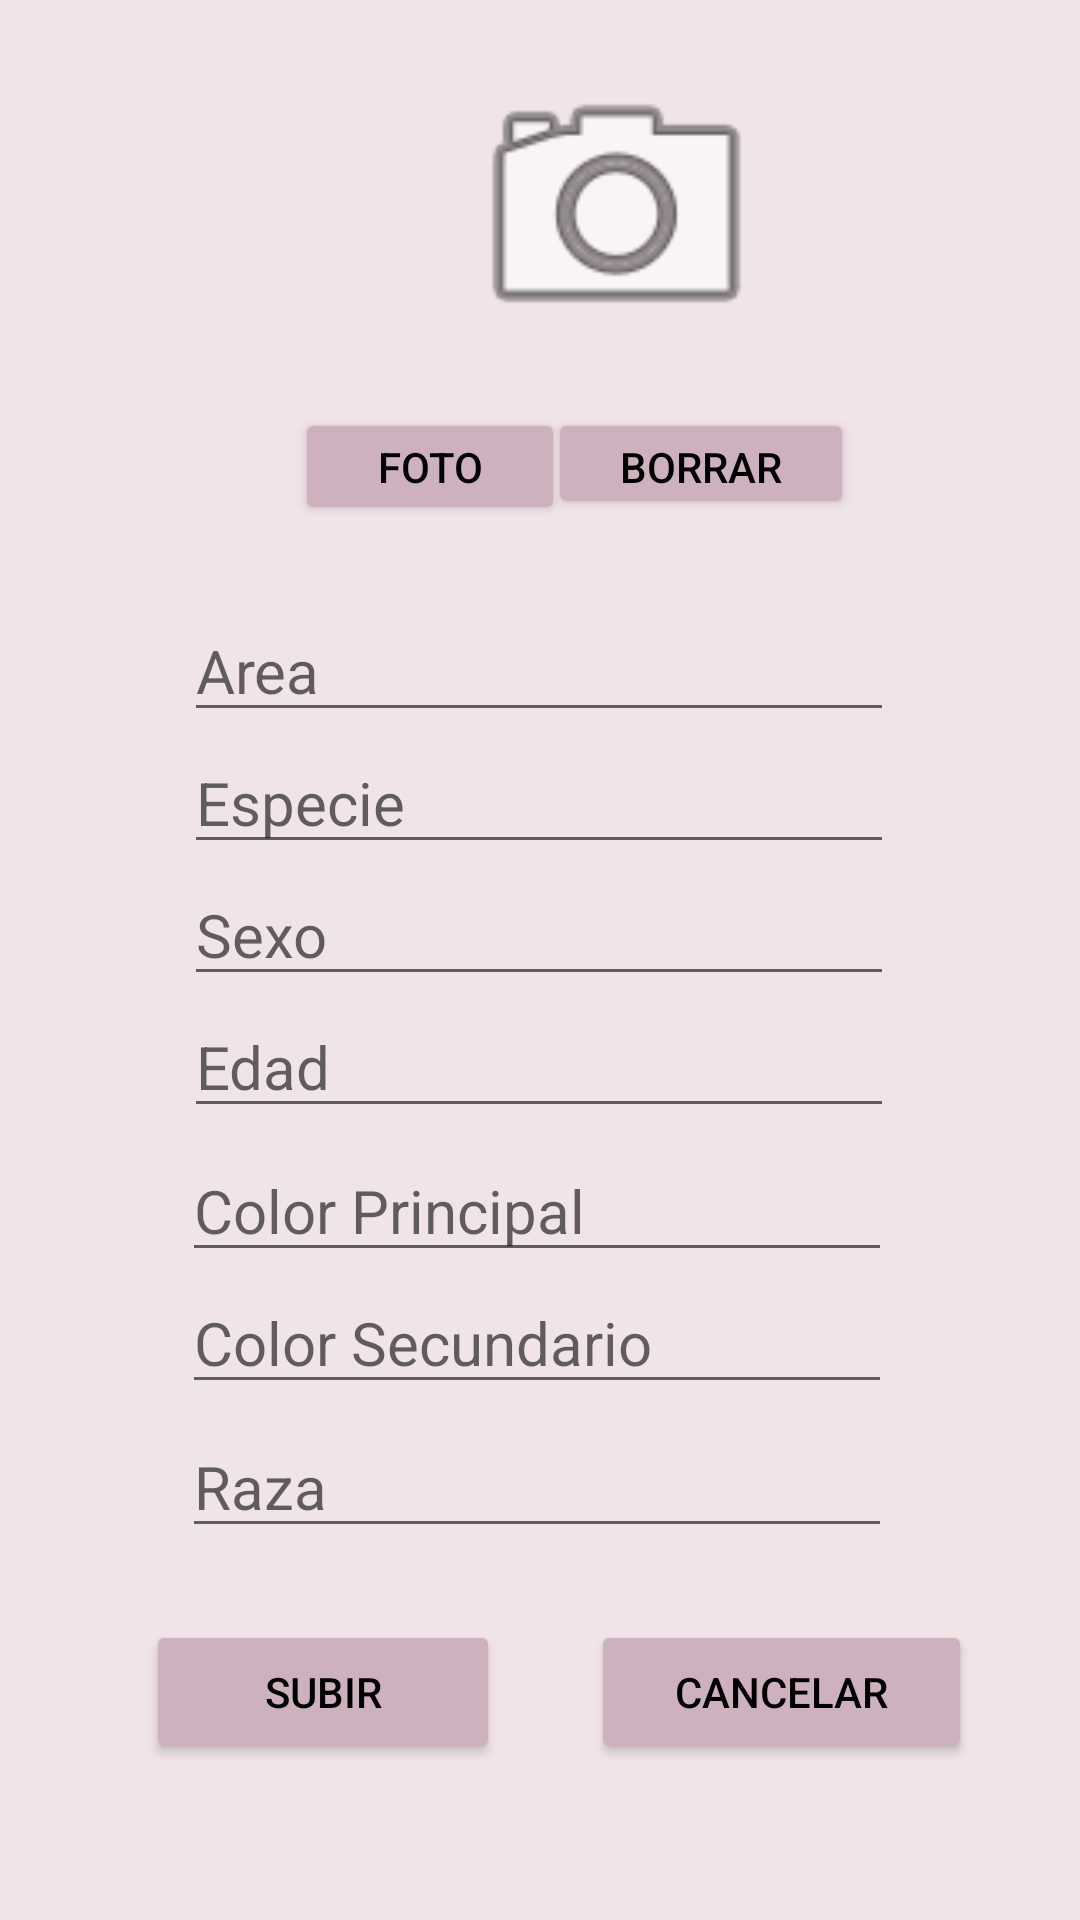

Screen size 1080w x 1920h. Icon name, then its center in pixels as (x=x, y=y):
camera: (x=616, y=203)
